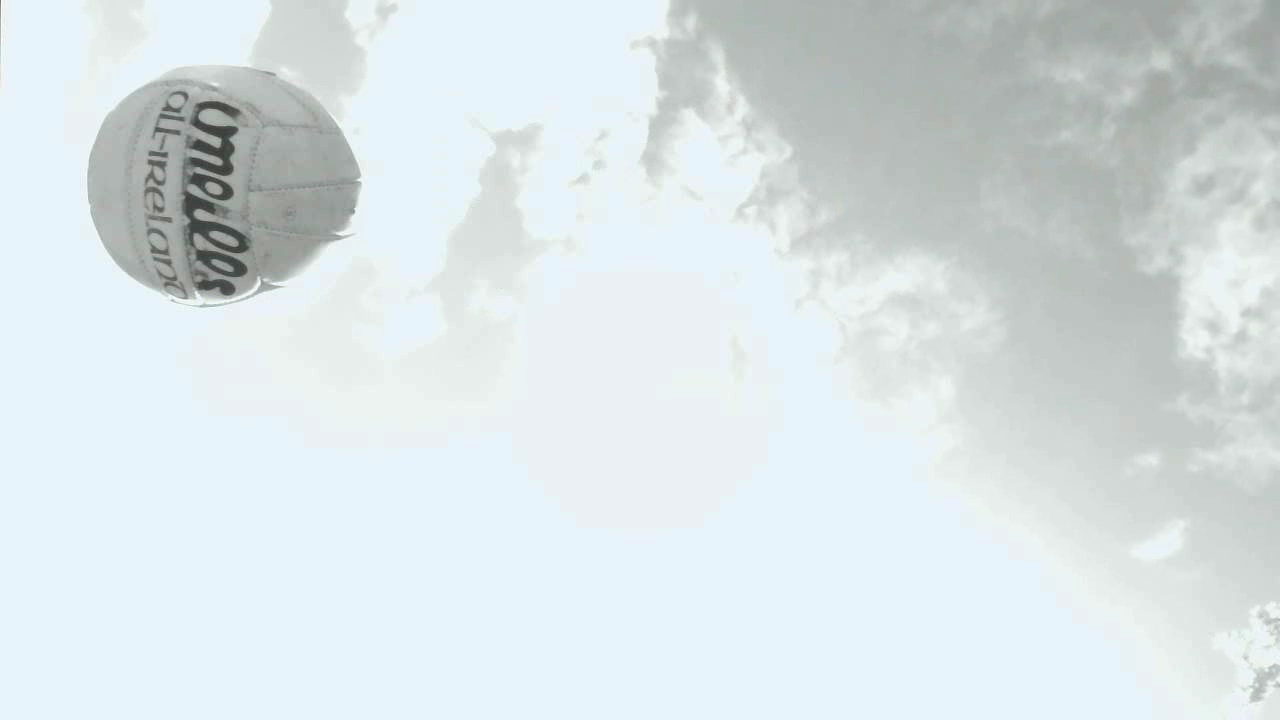Football-Spotter: (90, 67, 359, 306)
